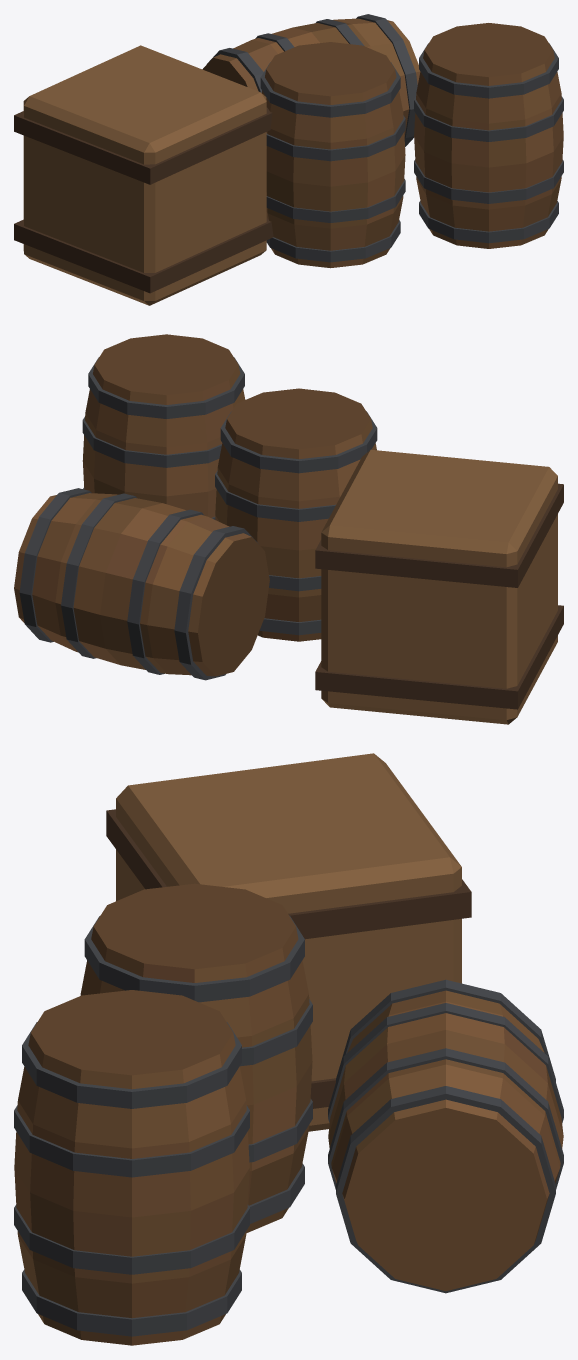
The model's file is Prop_Barrels.glb.
3 views of the same model, one above another, from view 1: azimuth 30°, elevation 25°; view 2: azimuth 150°, elevation 25°; view 3: azimuth 270°, elevation 25° (orthographic). The views are drawn at different scales.
Parts seen in each view (by area): view 1: Mat_Wood_7e5937, Mat_Wood_67472c, Mat_Metal_424448, Mat_Wood_765232; view 2: Mat_Wood_7e5937, Mat_Wood_67472c, Mat_Metal_424448, Mat_Wood_765232; view 3: Mat_Wood_7e5937, Mat_Wood_765232, Mat_Wood_67472c, Mat_Metal_424448.
Part boxes in pixels (x1=…): Mat_Wood_7e5937: x1=23, y1=18, x2=553, y2=305; Mat_Wood_67472c: x1=14, y1=19, x2=553, y2=293; Mat_Metal_424448: x1=206, y1=14, x2=563, y2=262; Mat_Wood_765232: x1=229, y1=41, x2=563, y2=253; Mat_Wood_7e5937: x1=14, y1=365, x2=557, y2=724; Mat_Wood_67472c: x1=19, y1=334, x2=563, y2=709; Mat_Metal_424448: x1=19, y1=357, x2=377, y2=680; Mat_Wood_765232: x1=14, y1=365, x2=376, y2=676; Mat_Wood_7e5937: x1=14, y1=753, x2=563, y2=1345; Mat_Wood_765232: x1=30, y1=963, x2=559, y2=1345; Mat_Wood_67472c: x1=14, y1=809, x2=563, y2=1323; Mat_Metal_424448: x1=14, y1=916, x2=563, y2=1336.
Size of the model in its own units: 5.32 by 1.9 by 3.5.
Materials: 1 (1 with a texture image).
